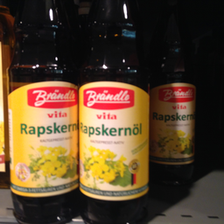oil: (79, 3, 152, 223), (8, 8, 80, 224), (151, 10, 197, 184)
